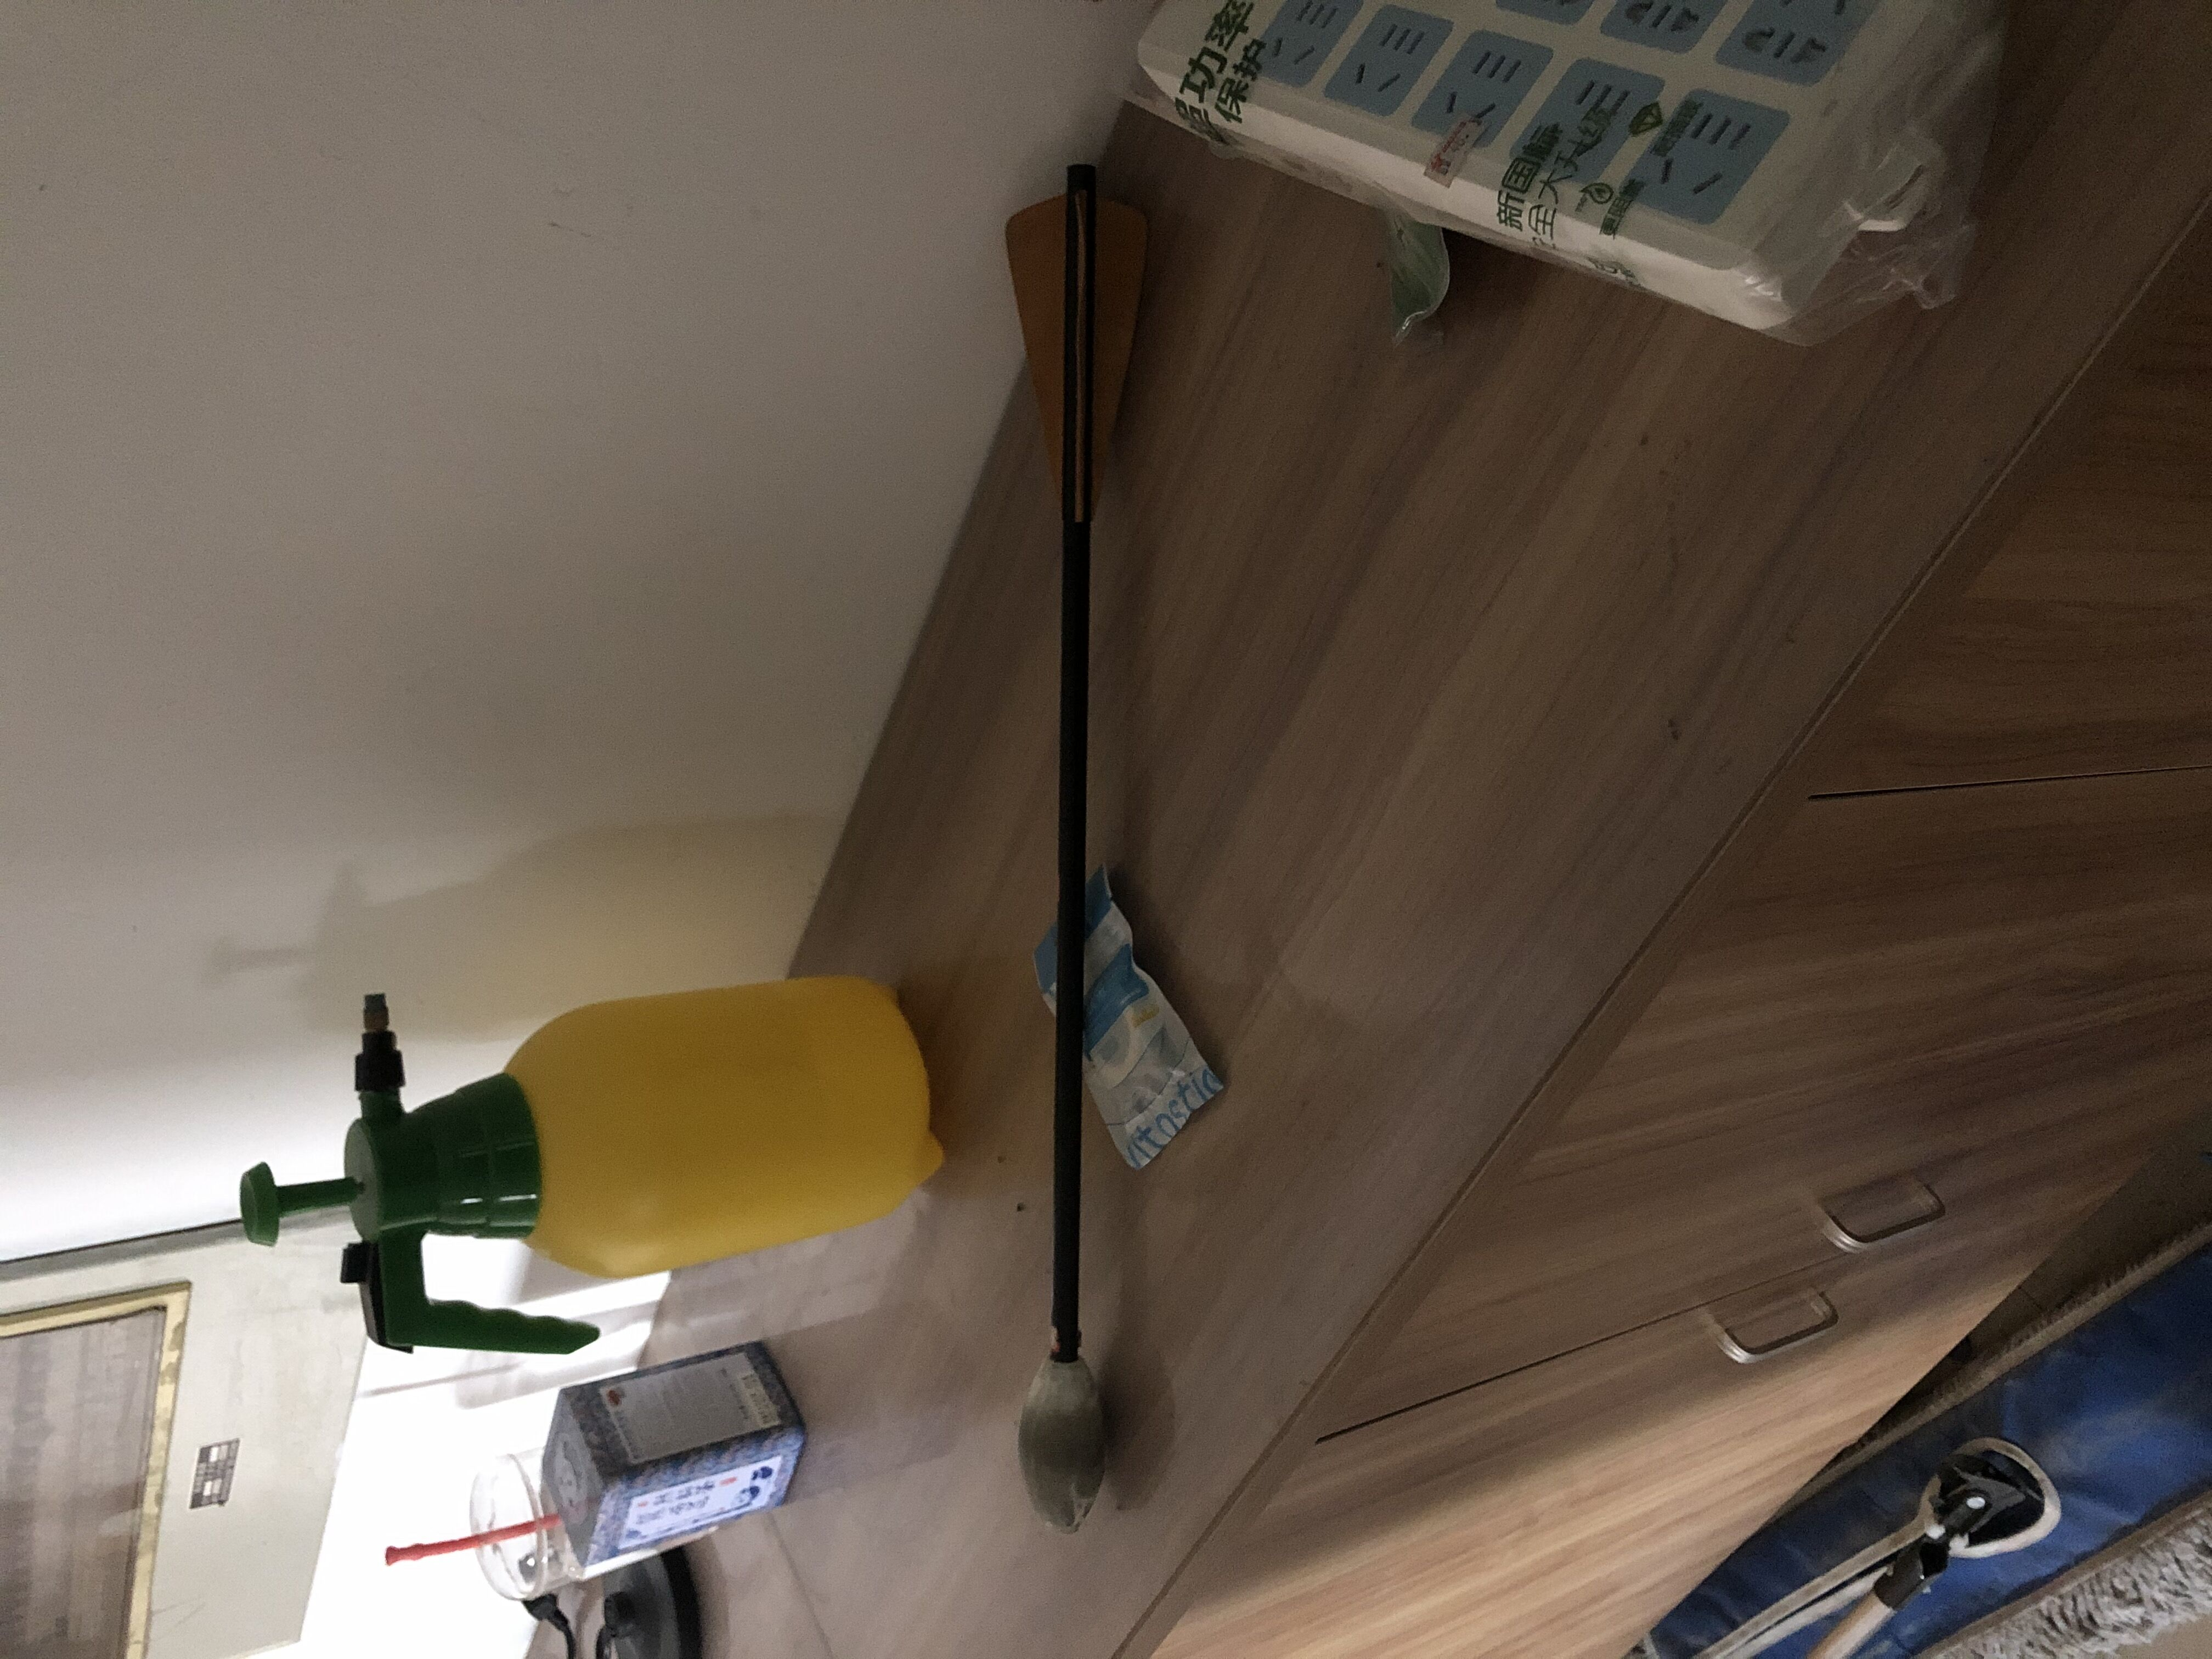arrow: (1000, 164, 1151, 1541)
arrowFront: (1021, 1354, 1104, 1535)
